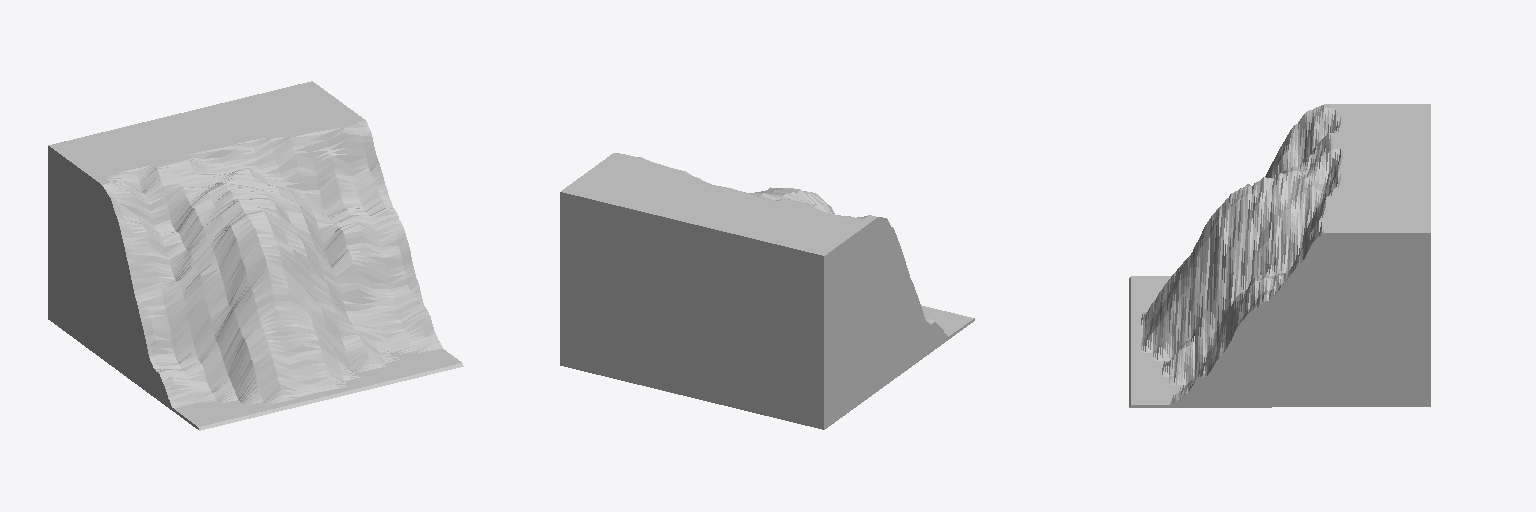
Rendered from F3Clliff.obj.
The picture shows the model from 3 angles: view 1: azimuth 30°, elevation 25°; view 2: azimuth 150°, elevation 25°; view 3: azimuth 270°, elevation 25°; orthographic projection.
Parts seen in each view (by area): view 1: Cliff_Segment_9_Landscape.014; view 2: Cliff_Segment_9_Landscape.014; view 3: Cliff_Segment_9_Landscape.014.
Part boxes in pixels (left/top/right/bottom): Cliff_Segment_9_Landscape.014: left=48, top=81, right=463, bottom=430; Cliff_Segment_9_Landscape.014: left=560, top=153, right=974, bottom=429; Cliff_Segment_9_Landscape.014: left=1129, top=104, right=1430, bottom=407.
Bounding box in the file's own units: 2.02 × 1.27 × 2.